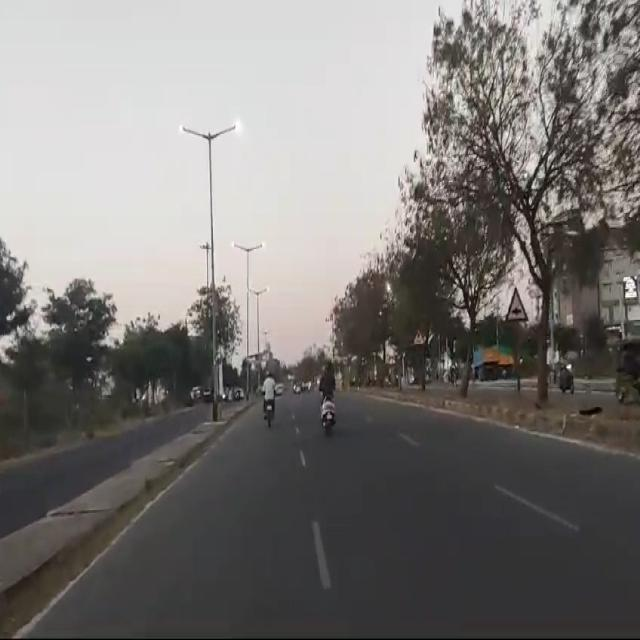bien_cam: (505, 286, 528, 323)
